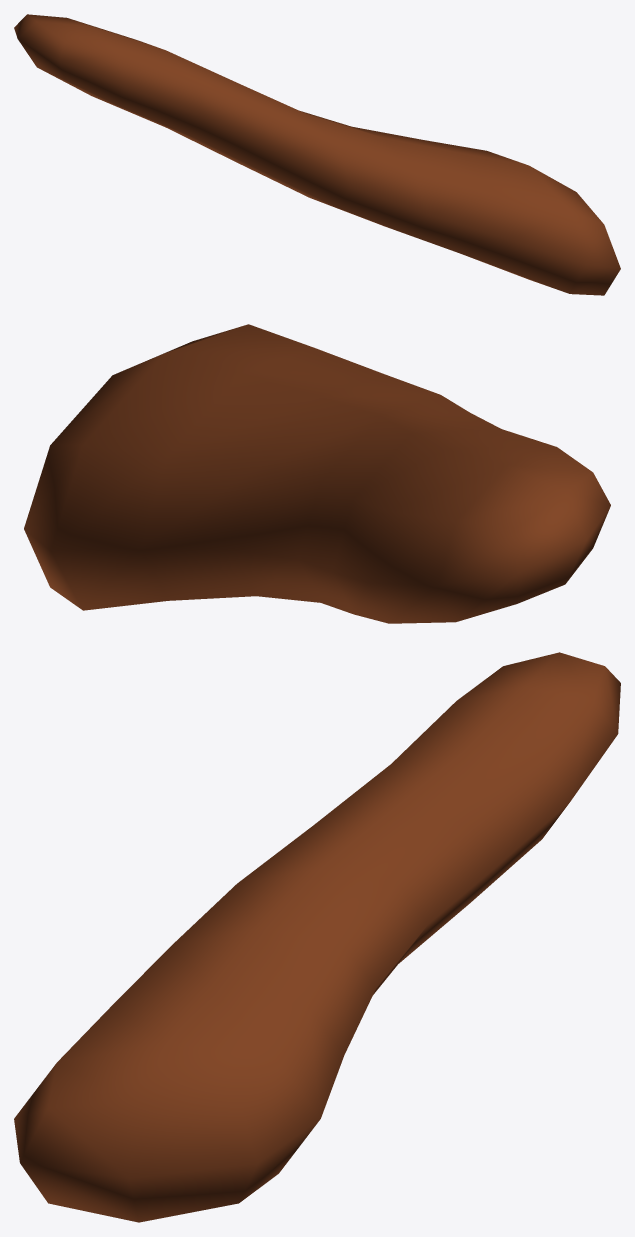
The model's file is Branch one.fbx.
3 renders of one model, top to bottom at view 1: azimuth 30°, elevation 25°; view 2: azimuth 150°, elevation 25°; view 3: azimuth 270°, elevation 25°, orthographic. The views are drawn at different scales.
Visible parts, largest first — view 1: Branch 1; view 2: Branch 1; view 3: Branch 1.
Part boxes in pixels (x1,y1,x2,y2): Branch 1: (14, 14, 620, 295); Branch 1: (24, 324, 610, 623); Branch 1: (14, 652, 620, 1222).
Bounding box in the file's own units: 1044 × 606 × 1095.
